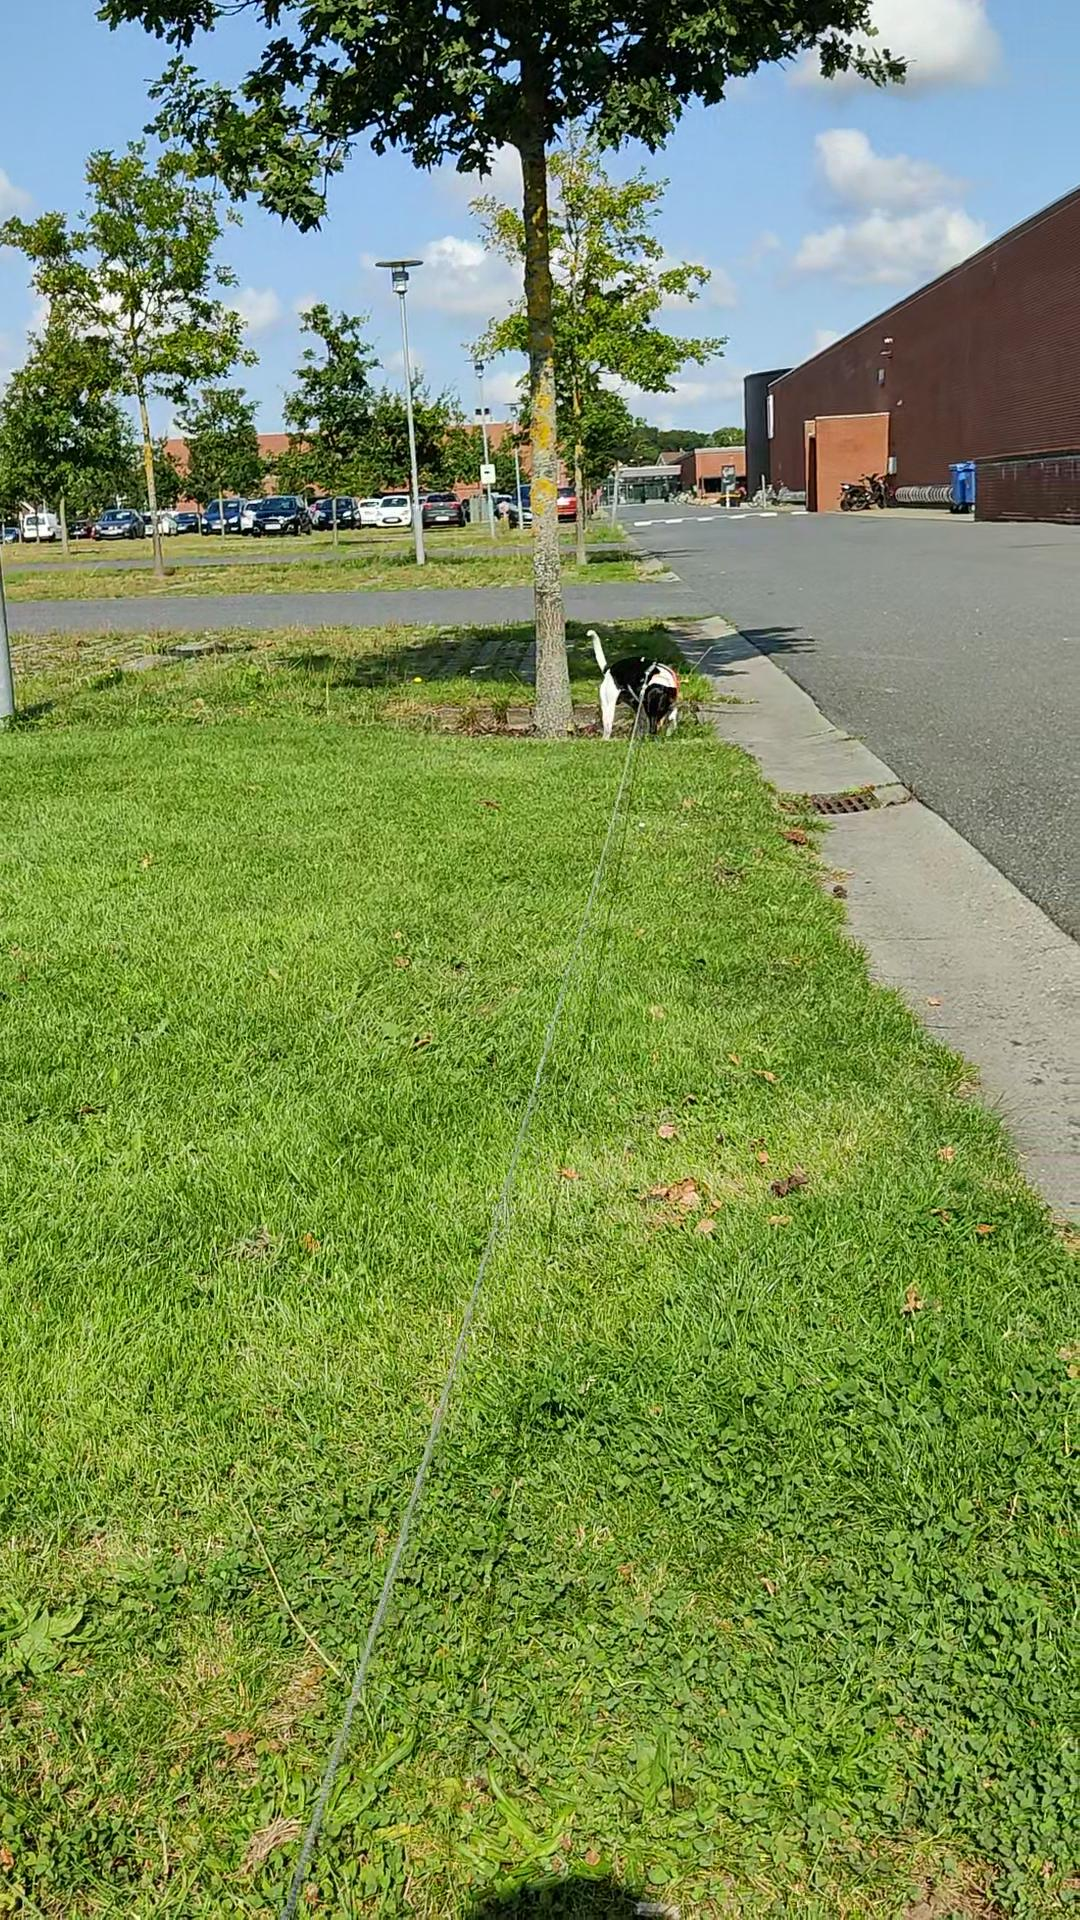Dog: (582, 626, 686, 740)
